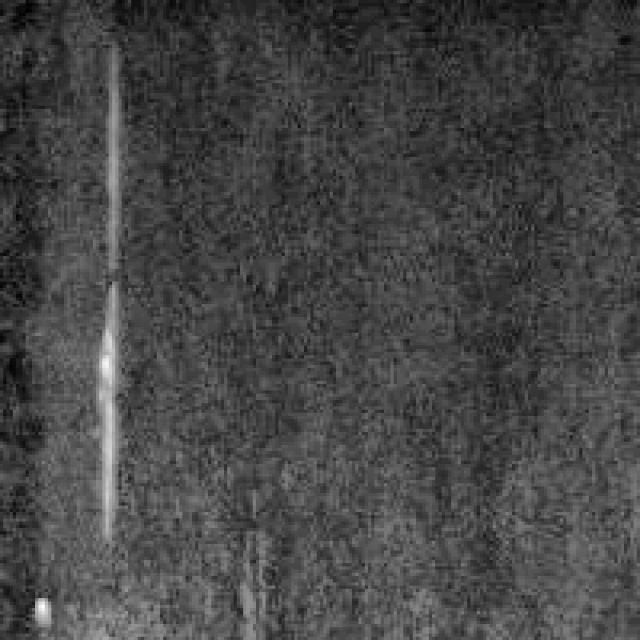Inclusion: (80, 35, 134, 544), (22, 586, 52, 624)
